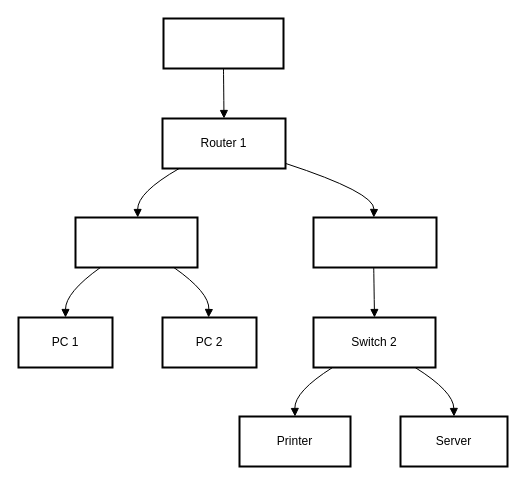
The diagram is 525 pixels wide and 484 high, and some of its shapes have lost their labels. Here are the shapes that lost their labels. From the top down, the centre of each, then its label:
At pixel 223 43: "Internet".
At pixel 136 242: "Switch 1".
At pixel 374 242: "Router 2".
